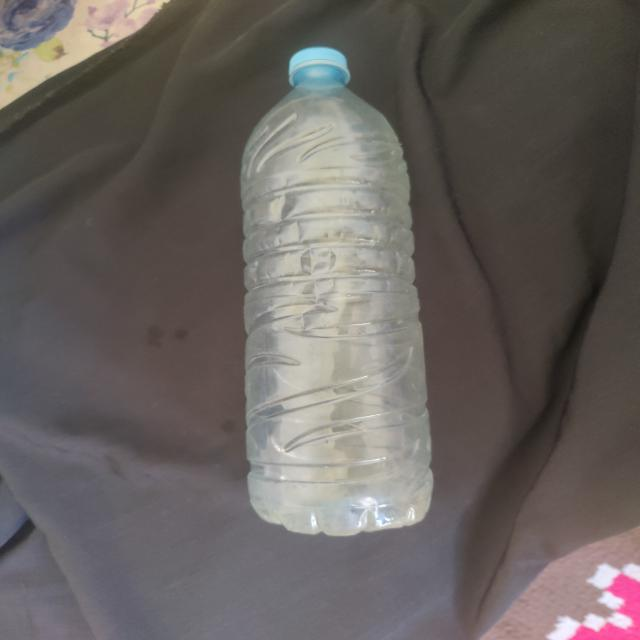plastic: (239, 47, 435, 539)
